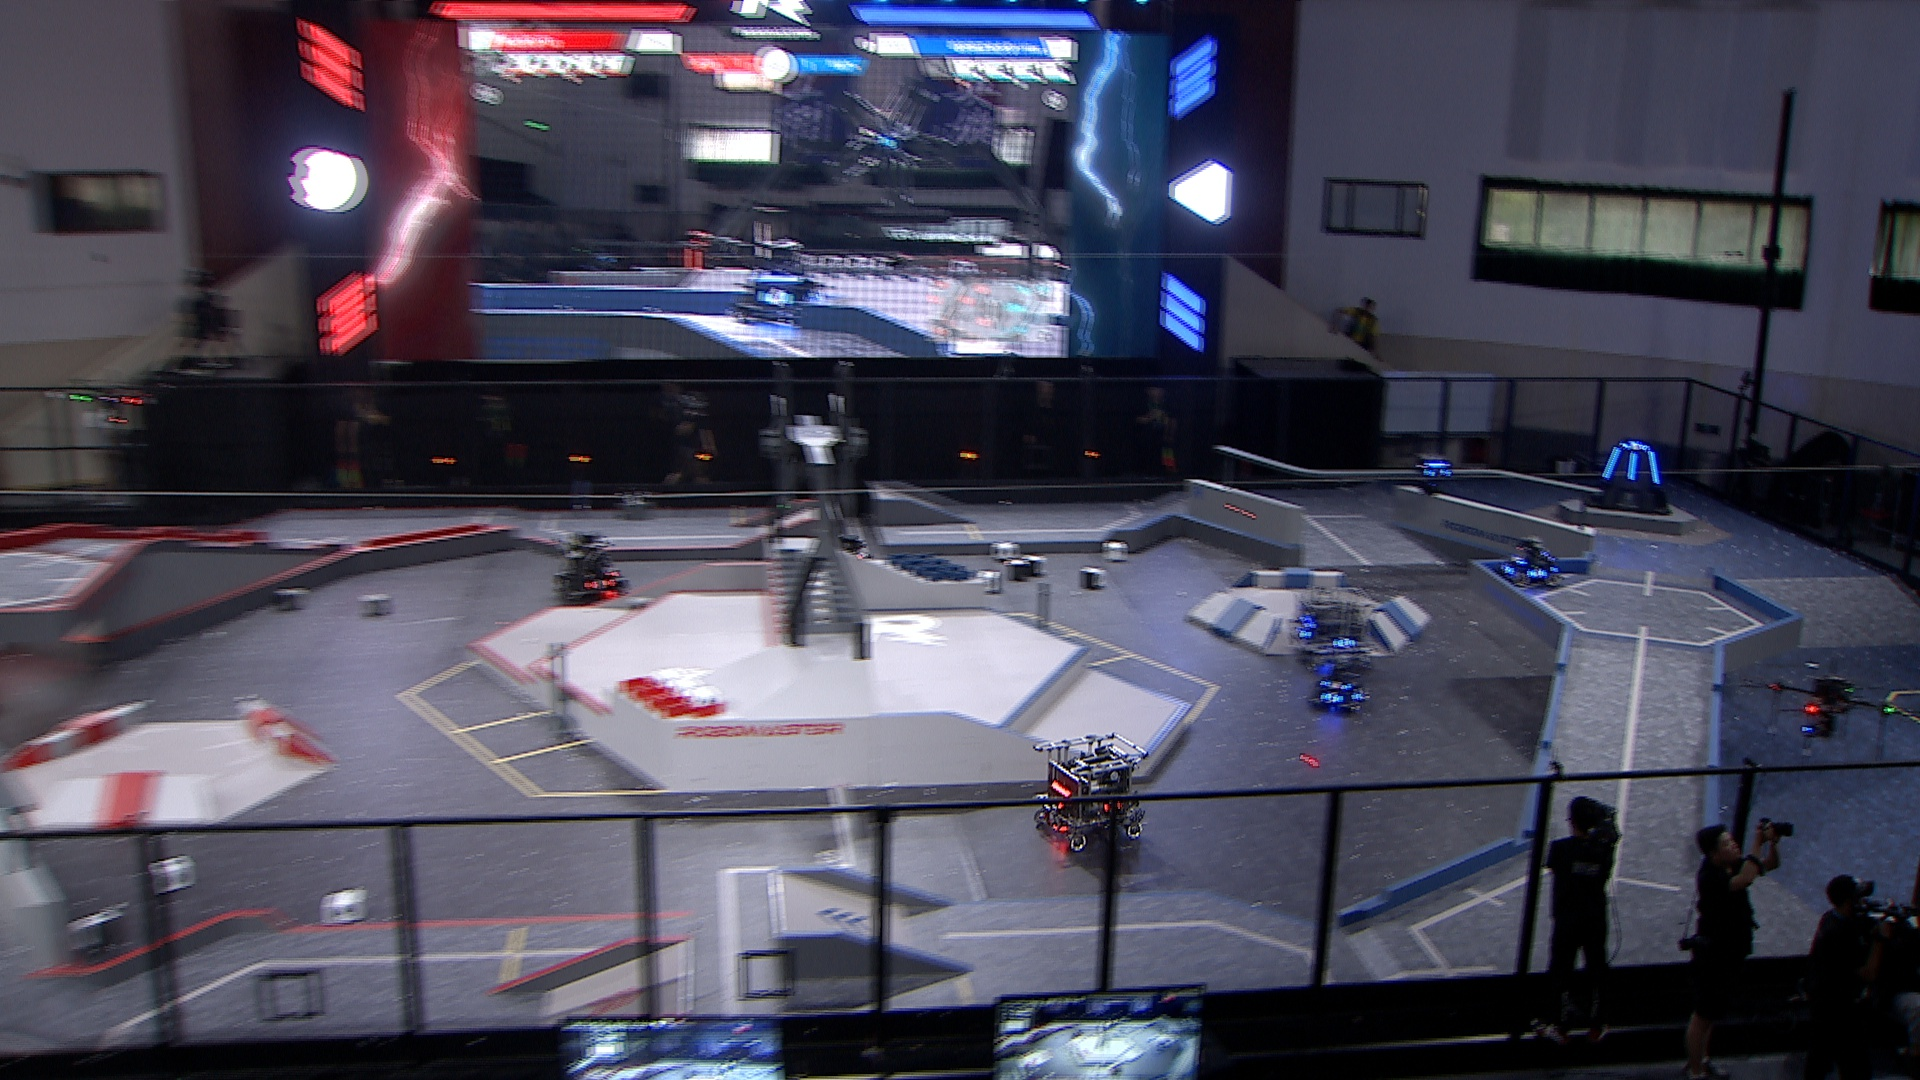armor: (1600, 446, 1625, 479), (1647, 450, 1662, 488), (1319, 678, 1352, 694), (1625, 451, 1640, 481), (1422, 465, 1452, 480), (583, 575, 613, 589), (1292, 622, 1313, 642), (1523, 566, 1549, 582), (1621, 439, 1648, 454), (1333, 636, 1356, 651), (1321, 692, 1346, 705), (1509, 553, 1528, 567), (1501, 562, 1518, 578)
base: (1580, 434, 1675, 518)
car: (1033, 727, 1153, 856), (551, 529, 636, 611), (1291, 582, 1373, 655), (1309, 647, 1371, 712), (1495, 533, 1565, 589)
ignore: (732, 237, 832, 330)
watcher: (1411, 448, 1455, 498)
